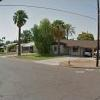Palm tree: (7, 7, 33, 57)
